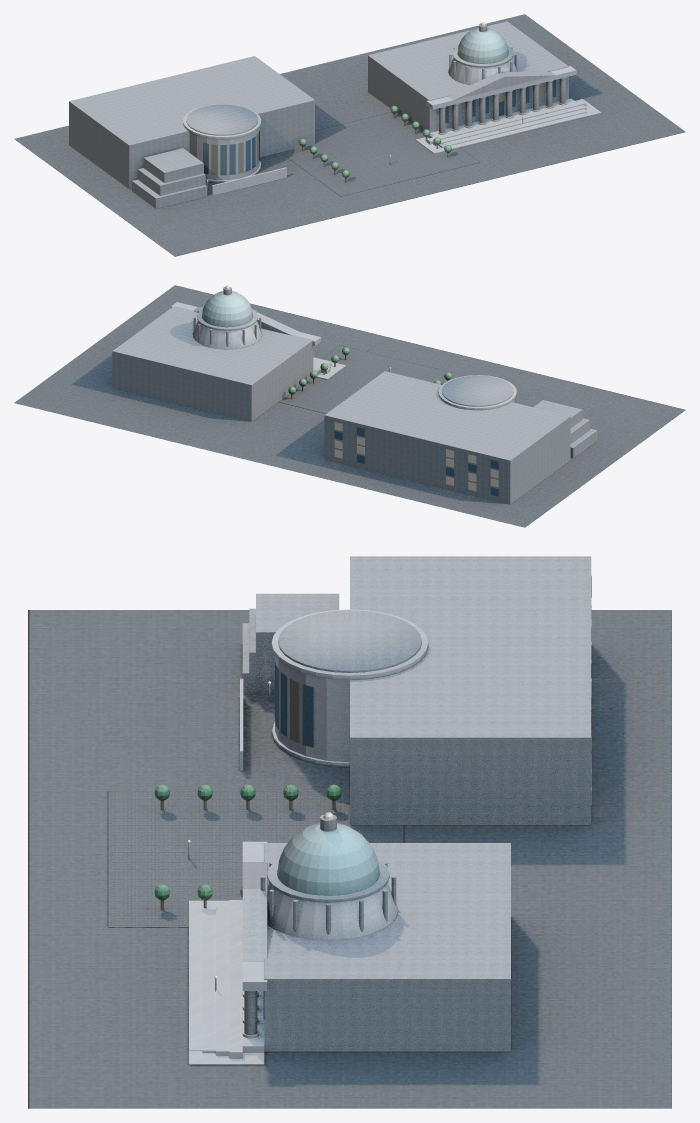
The model's file is tiancheng_univ_court.glb.
3 views of the same model, one above another, from view 1: azimuth 30°, elevation 25°; view 2: azimuth 150°, elevation 25°; view 3: azimuth 270°, elevation 25° (orthographic). The views are drawn at different scales.
Parts seen in each view (by area): view 1: site_ground, props_univ, props_court, props_plaza; view 2: site_ground, props_univ, props_court, props_plaza; view 3: site_ground, props_univ, props_court, props_plaza.
Boxes of the visible parts, x1=… form: site_ground: x1=14, y1=14, x2=685, y2=256; props_univ: x1=69, y1=56, x2=314, y2=208; props_court: x1=368, y1=21, x2=601, y2=153; props_plaza: x1=280, y1=105, x2=479, y2=196; site_ground: x1=14, y1=285, x2=685, y2=527; props_univ: x1=324, y1=371, x2=597, y2=504; props_court: x1=112, y1=285, x2=345, y2=421; props_plaza: x1=279, y1=345, x2=465, y2=413; site_ground: x1=28, y1=610, x2=671, y2=1108; props_univ: x1=240, y1=556, x2=591, y2=824; props_court: x1=189, y1=812, x2=510, y2=1065; props_plaza: x1=108, y1=784, x2=403, y2=927.
Bounding box in the file's own units: 220 × 35.26 × 120.
5 materials, 5 textured.
